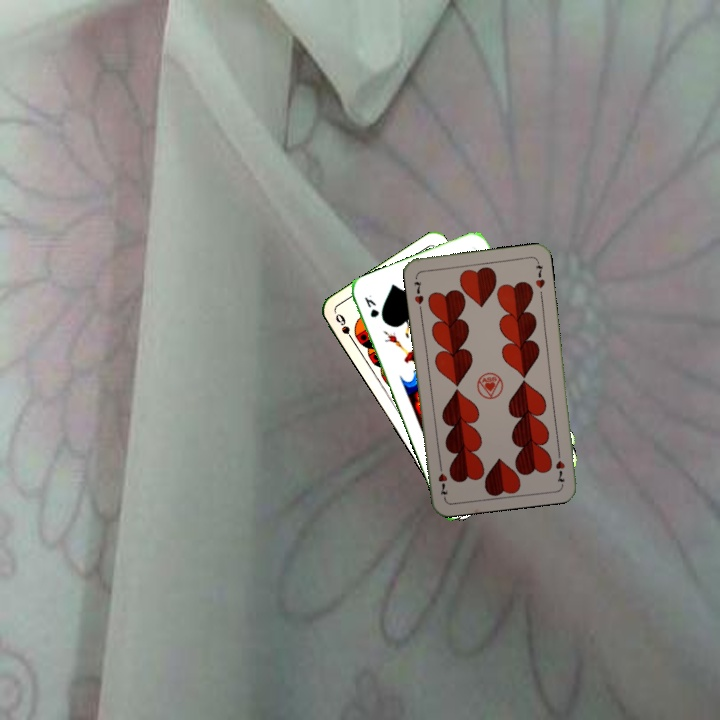GK: (360, 291, 382, 320)
H7: (552, 446, 568, 486), (410, 277, 426, 307)
S9: (331, 309, 358, 347)
